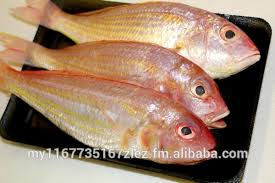Ikan Kerisi: (13, 75, 232, 169), (34, 5, 265, 79), (28, 41, 231, 125)
